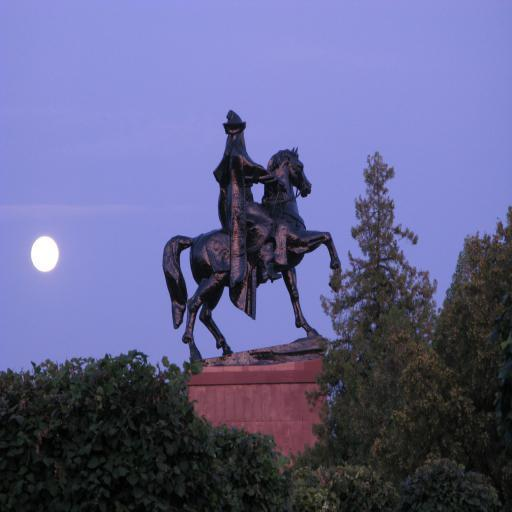horse: (159, 144, 342, 364)
